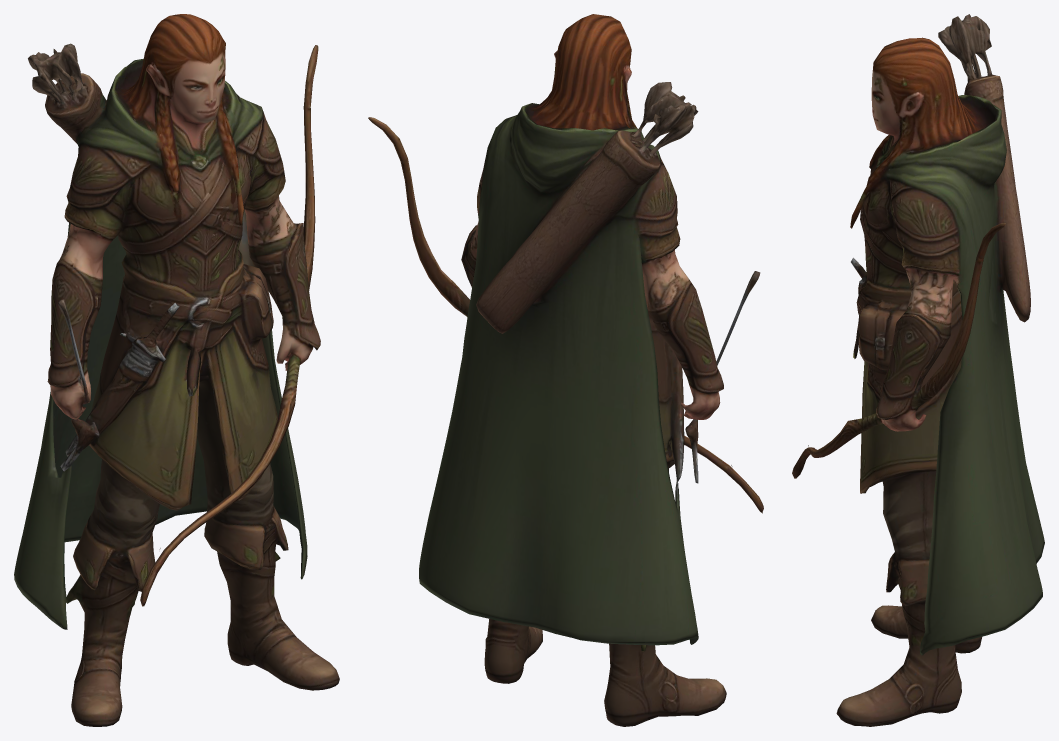
Rendered from Druida Homem.glb.
3 views of the same model, side by side, from view 1: azimuth 30°, elevation 25°; view 2: azimuth 150°, elevation 25°; view 3: azimuth 270°, elevation 25° (orthographic). The views are drawn at different scales.
Visible parts, largest first — view 1: tripo_node_1934b798-5ff2-47fd-9dcb-3f236a63f16c; view 2: tripo_node_1934b798-5ff2-47fd-9dcb-3f236a63f16c; view 3: tripo_node_1934b798-5ff2-47fd-9dcb-3f236a63f16c.
Boxes of the visible parts, <box> form: tripo_node_1934b798-5ff2-47fd-9dcb-3f236a63f16c: <box>14,14,339,726</box>; tripo_node_1934b798-5ff2-47fd-9dcb-3f236a63f16c: <box>368,14,763,726</box>; tripo_node_1934b798-5ff2-47fd-9dcb-3f236a63f16c: <box>792,14,1044,726</box>.
Bounding box in the file's own units: 0.5081 × 0.997 × 0.3617.
Materials: 1 (1 with a texture image).
